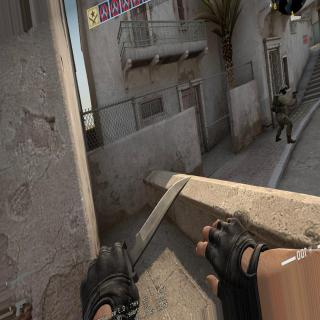CT-Body: (266, 78, 298, 146)
CT-Head: (278, 84, 288, 95)
